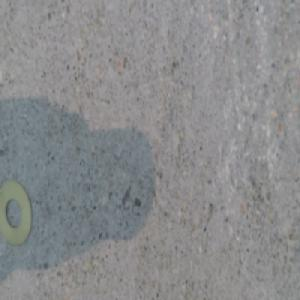Washer: (3, 179, 33, 243)
